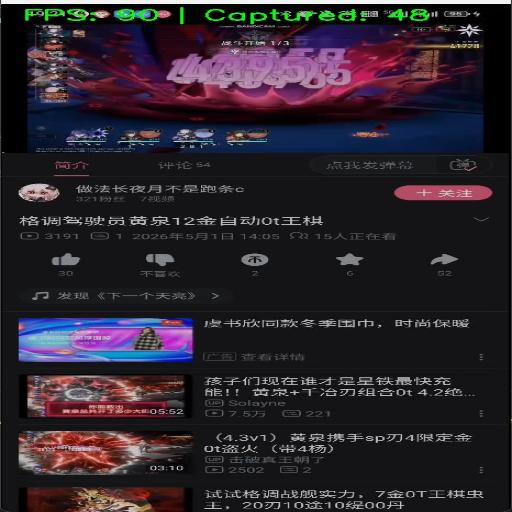butten: (16, 369, 498, 430), (11, 434, 499, 484), (10, 179, 262, 206), (11, 153, 108, 174), (136, 157, 248, 173)
input: (312, 158, 437, 174)
